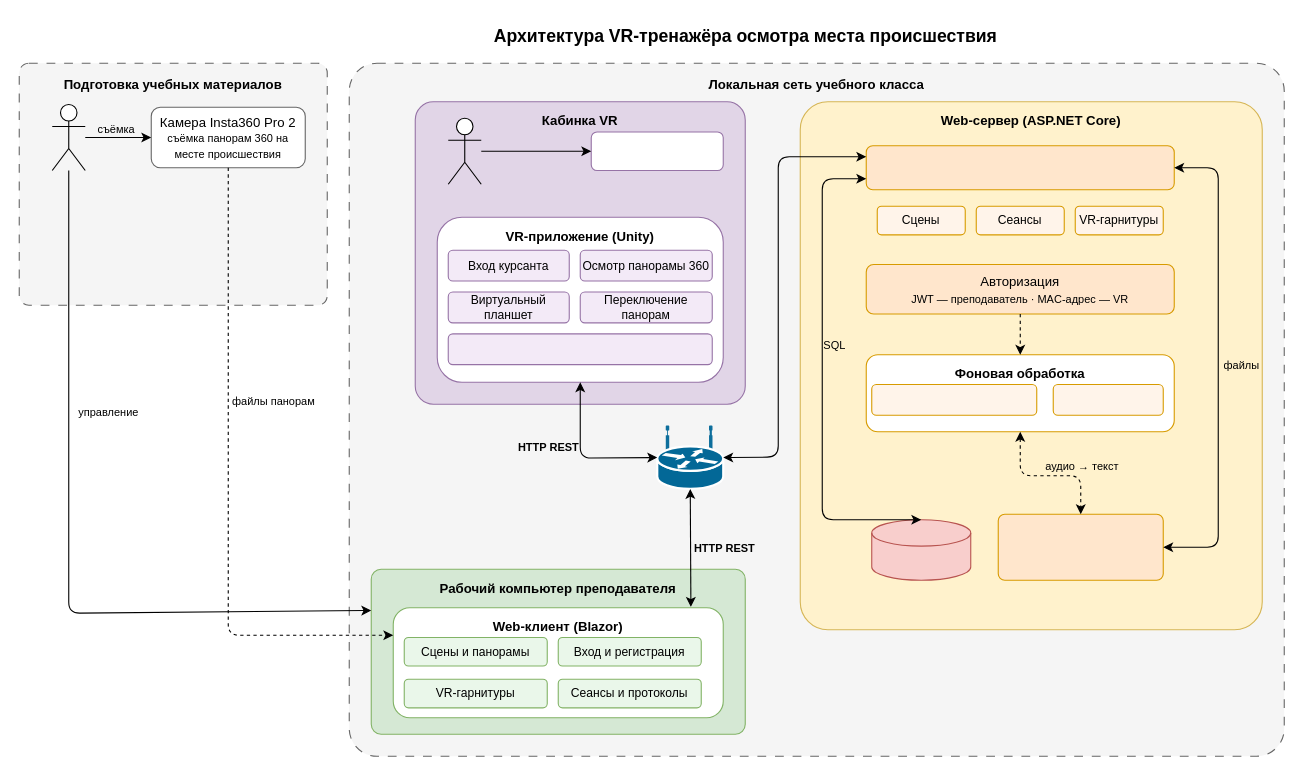
This 1304x776 diagram has some shape labels left out. Here are the shapes that lost their labels. From the top down, the centre of each, then its label:
At (x=68, y=136): "Преподаватель".
At (x=464, y=150): "Курсант".
At (x=656, y=150): "VR-гарнитура".
At (x=1019, y=167): "REST API".
At (x=579, y=349): "Фото + аудио комментарии".
At (x=954, y=399): "Распознавание речи (Vosk)".
At (x=1107, y=399): "Протокол DOCX".
At (x=690, y=457): "Сеть".
At (x=921, y=549): "SQLite метаданные".
At (x=1080, y=546): "Файловое хранилище панорамы, аудио, скриншоты, тексты, протоколы".
